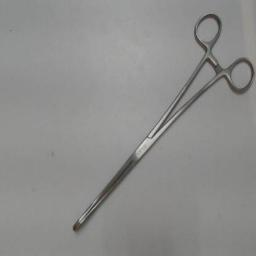Sponge Forceps: (69, 6, 255, 236)
